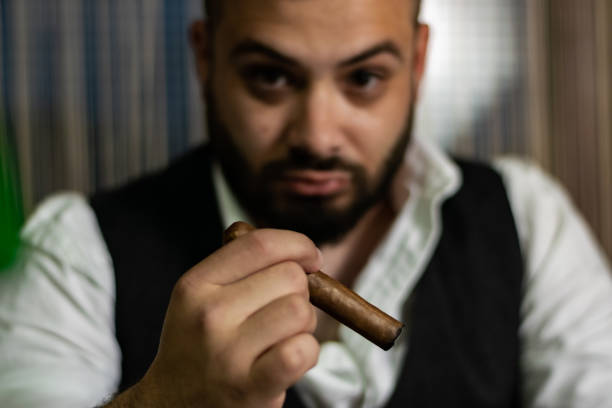cigarette: (229, 223, 405, 352)
